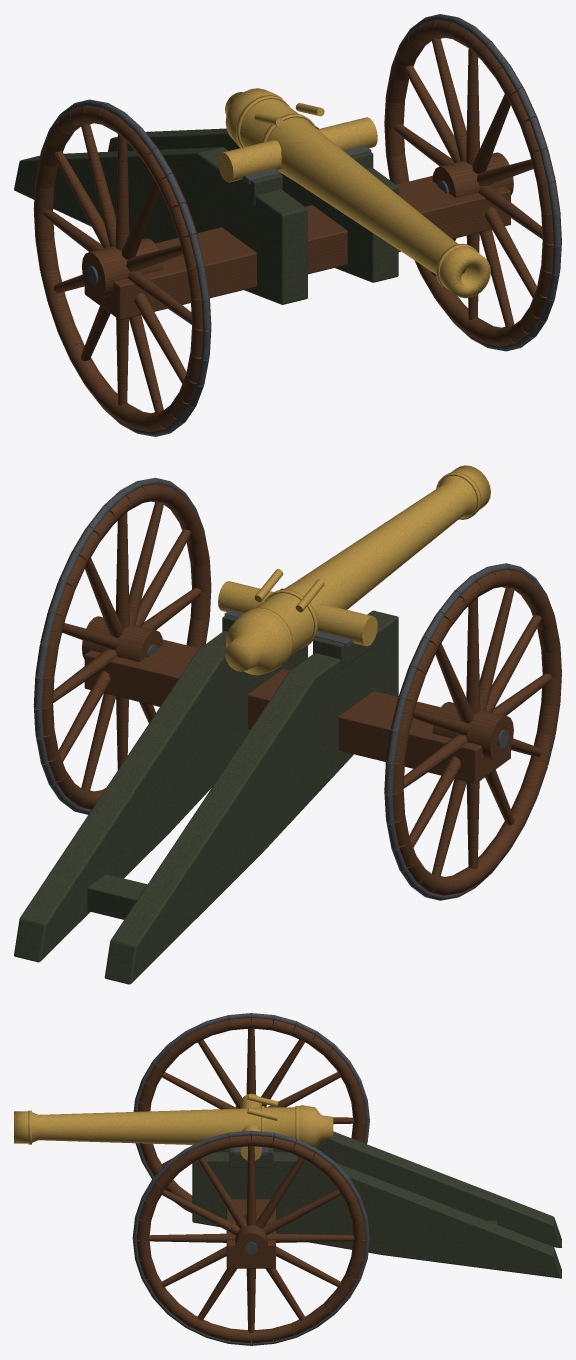
Rendered from cannon_fr6.glb.
3 renders of one model, top to bottom at view 1: azimuth 30°, elevation 25°; view 2: azimuth 150°, elevation 25°; view 3: azimuth 270°, elevation 25°, orthographic. The views are drawn at different scales.
Parts seen in each view (by area): view 1: cannon_fr6.body, cannon_fr6.barrel; view 2: cannon_fr6.body, cannon_fr6.barrel; view 3: cannon_fr6.body, cannon_fr6.barrel.
Boxes of the visible parts, left/top/right/bottom form: cannon_fr6.body: left=14, top=14, right=561, bottom=436; cannon_fr6.barrel: left=218, top=88, right=490, bottom=298; cannon_fr6.body: left=14, top=477, right=561, bottom=984; cannon_fr6.barrel: left=218, top=465, right=490, bottom=675; cannon_fr6.body: left=132, top=1013, right=561, bottom=1345; cannon_fr6.barrel: left=14, top=1093, right=333, bottom=1160.
Bounding box in the file's own units: 2 × 1.45 × 3.35.
5 materials, 5 textured.
